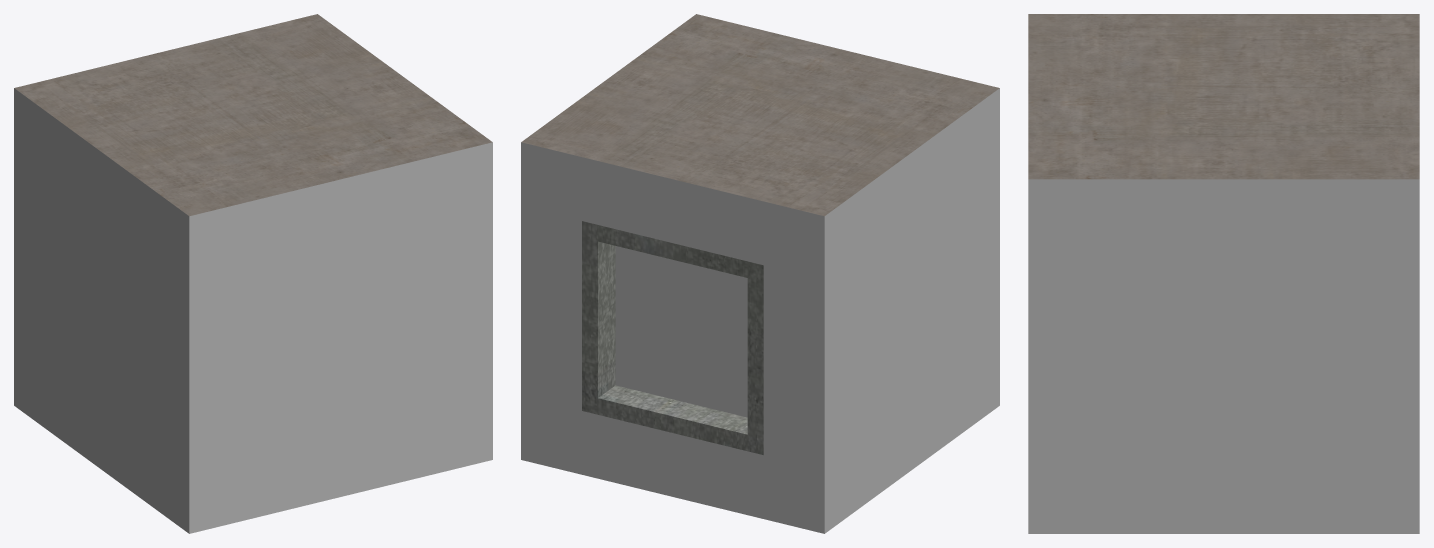
Rendered from wallB_window.fbx.
3 renders of one model, left to right at view 1: azimuth 30°, elevation 25°; view 2: azimuth 150°, elevation 25°; view 3: azimuth 270°, elevation 25°, orthographic. The views are drawn at different scales.
Visible parts, largest first — view 1: wallB_window; view 2: wallB_window; view 3: wallB_window.
Boxes of the visible parts, x1,y1,x2,y2 form: wallB_window: [14, 14, 492, 533]; wallB_window: [521, 14, 999, 533]; wallB_window: [1028, 14, 1419, 533].
Size of the model in its own units: 10 by 10 by 10.
